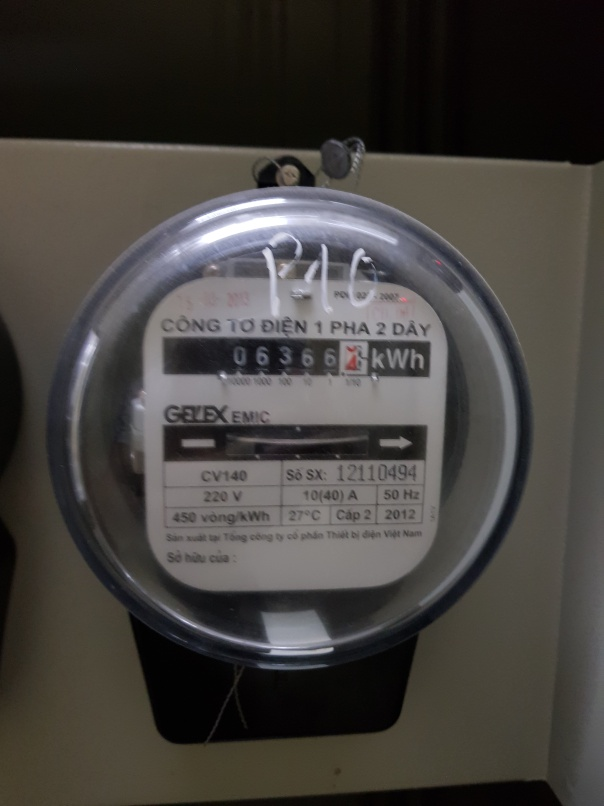counter: (162, 336, 431, 378)
electricity_meter: (42, 183, 537, 676)
